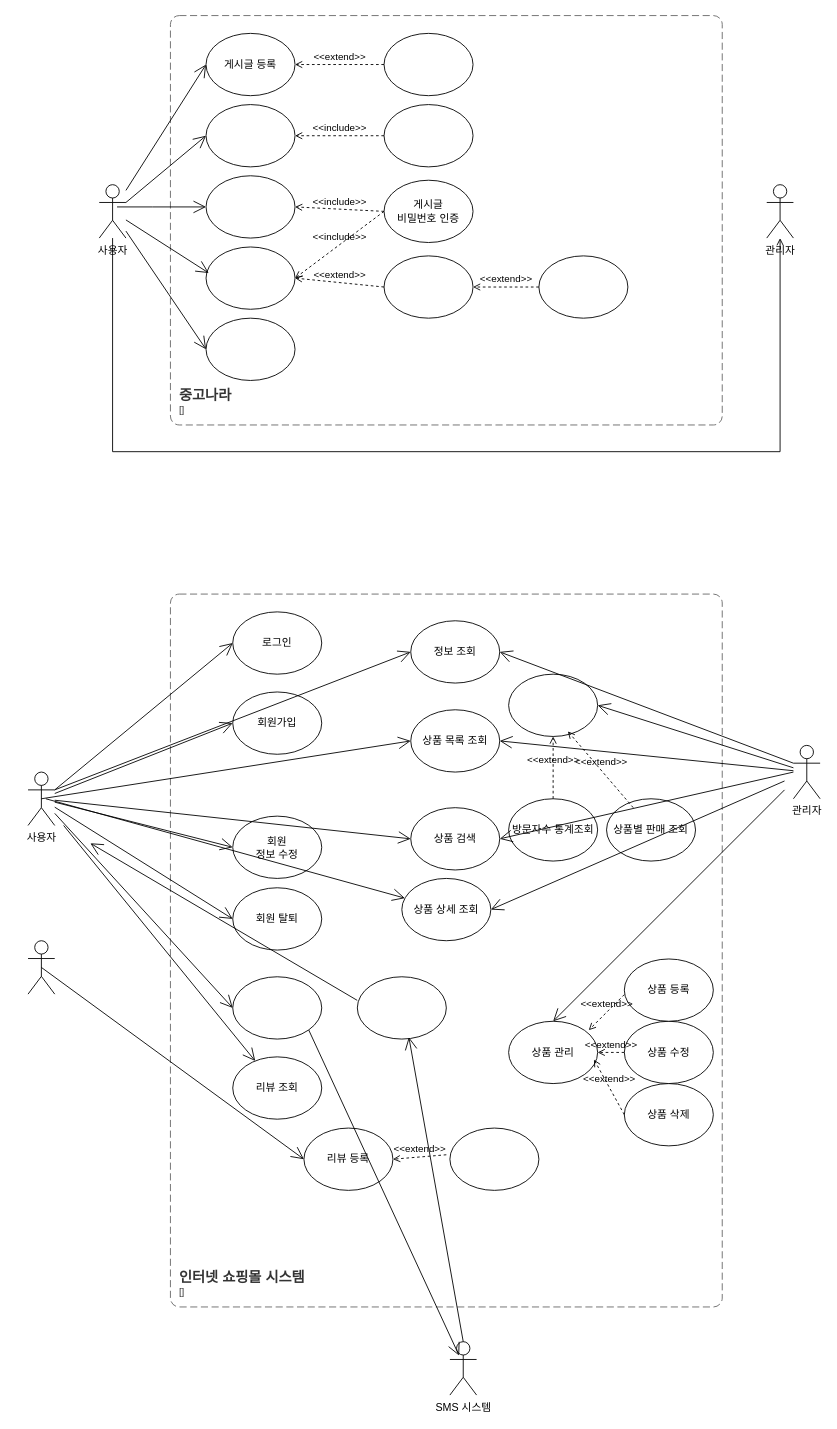
The diagram is 837 pixels wide and 1429 high, and some of its shapes have lost their labels. Each missing label, with the centre of its shape:
"게시글 목록 조회" goes at point 250,277.
"게시글 삭제" goes at point 250,206.
"게시글 상세 조회" goes at point 428,286.
"게시글 수정" goes at point 250,135.
"댓글 달기" goes at point 583,286.
"리뷰 사진 등록" goes at point 494,1158.
"문자 전송" goes at point 401,1007.
"사진 첨부" goes at point 428,64.
"상품 결제" goes at point 277,1007.
"상품 구매자" goes at point 41,967.
"신고" goes at point 250,348.
"카테고리 선택" goes at point 428,135.
"통계 조회" goes at point 553,704.
